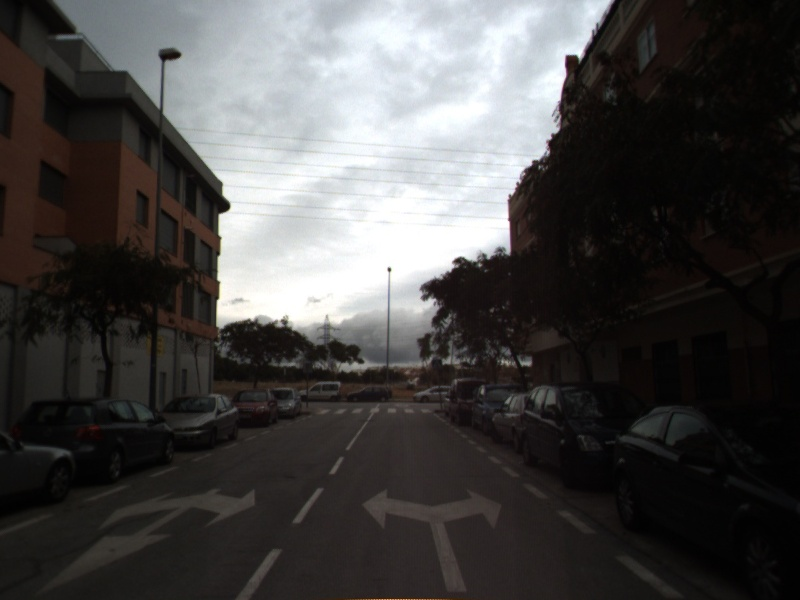LEFT_RIGHT: (359, 485, 505, 594)
